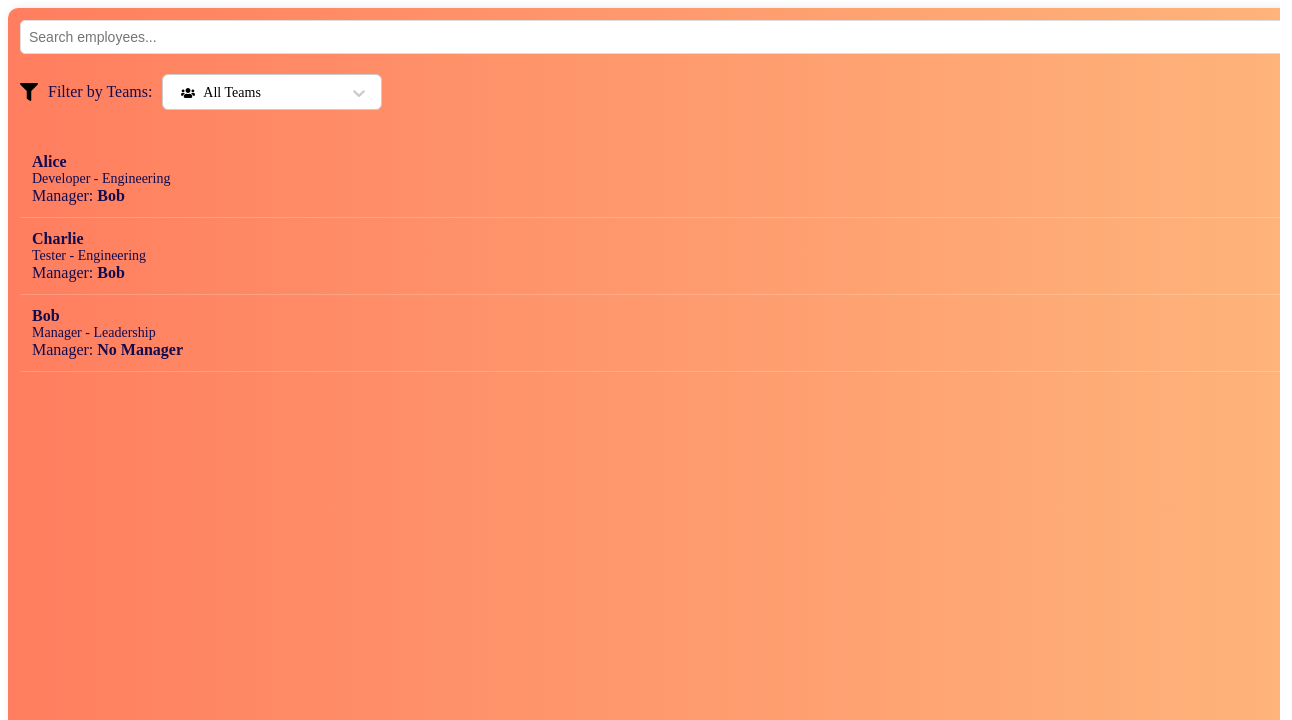
Test: EmployeeList Component › filters employees by search
The image size is (1292, 720).
Type "Charlie" into the field with placeholder "Search employees..." at {"x": 650, "y": 37}, box left=20, top=20, right=1280, bottom=54
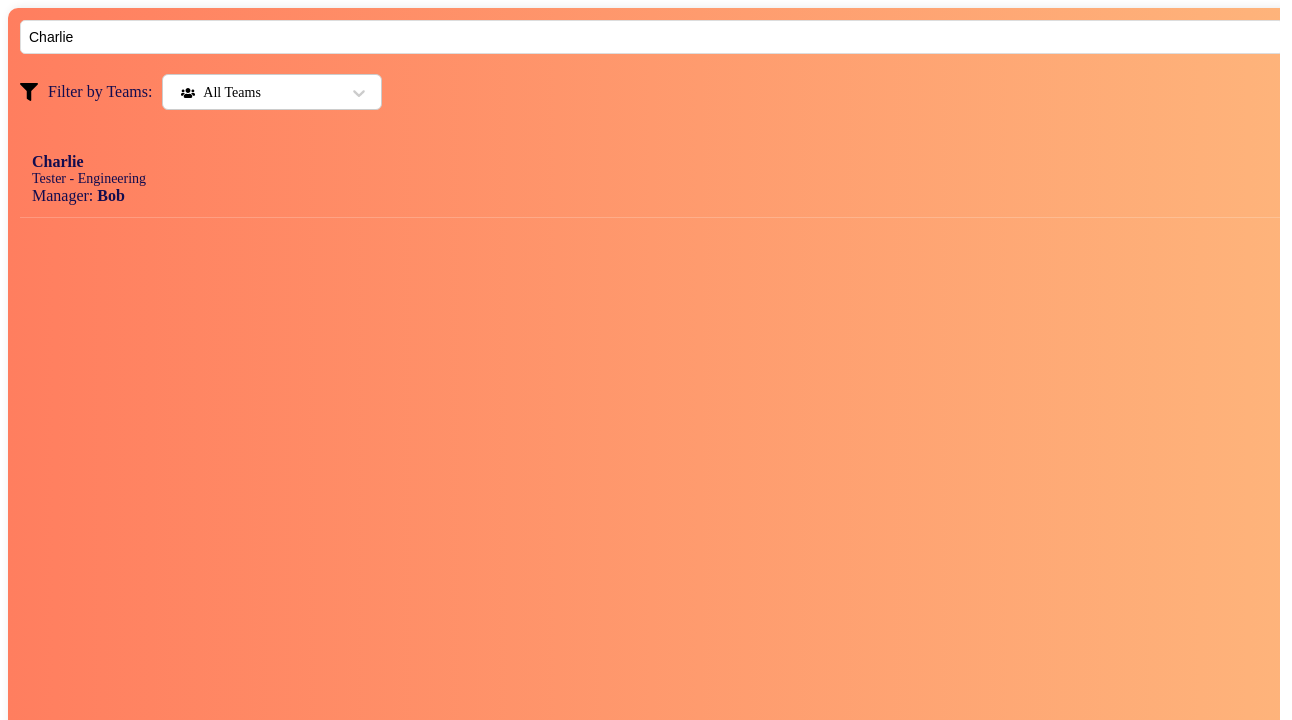
Expected: the text "Charlie" is shown, left=32, top=153, right=84, bottom=170
Expected: the text with test id "employee-name-1" is gone
Expected: the text with test id "employee-name-3" is gone
